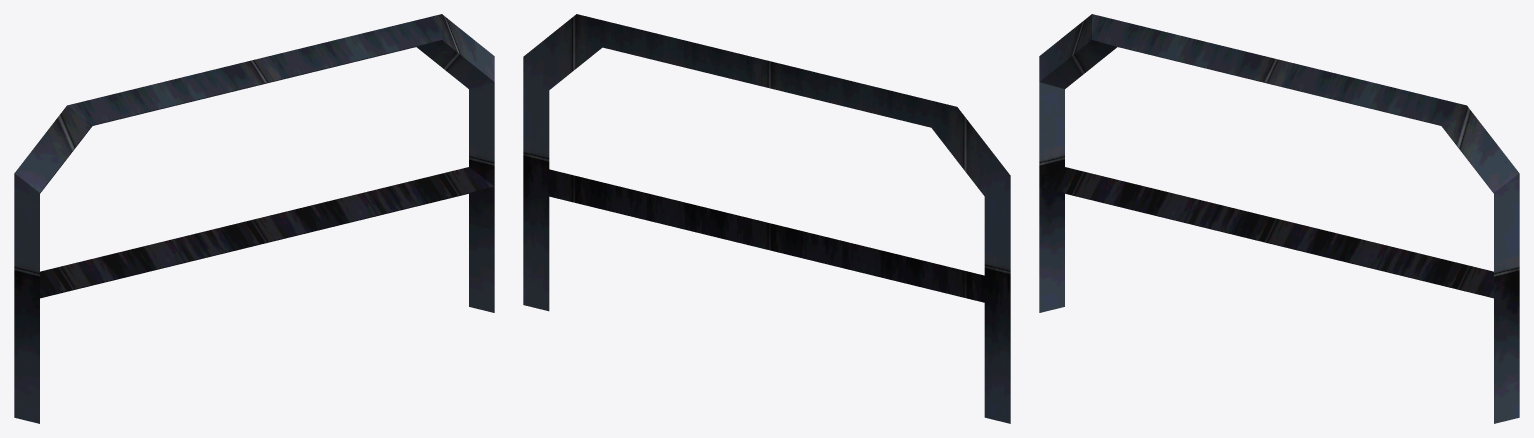
File: barrierDiagonal.fbx
3 views of the same model, side by side, from view 1: azimuth 30°, elevation 25°; view 2: azimuth 150°, elevation 25°; view 3: azimuth 330°, elevation 25° (orthographic).
Visible parts, largest first — view 1: barrierDiagonal; view 2: barrierDiagonal; view 3: barrierDiagonal.
Part boxes in pixels (x1,y1,x2,y2): barrierDiagonal: [14, 14, 494, 423]; barrierDiagonal: [523, 14, 1010, 423]; barrierDiagonal: [1039, 14, 1519, 423].
Size of the model in its own units: 2.12 by 1.26 by 0.098.
